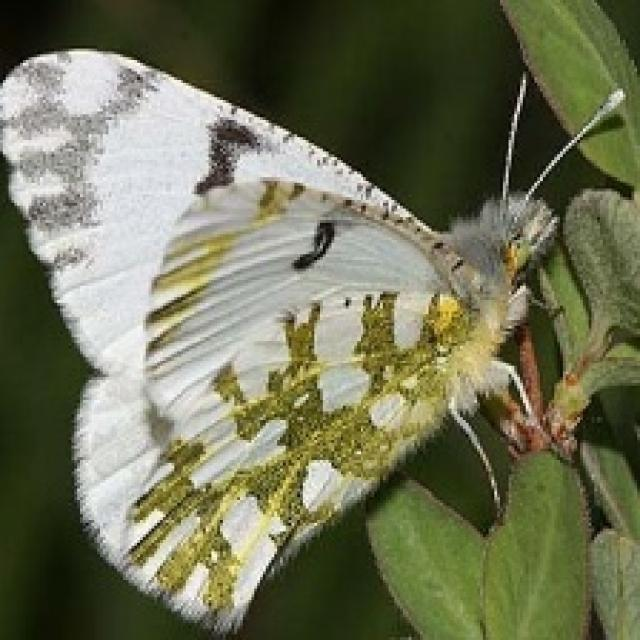butterfly: (0, 43, 626, 637)
